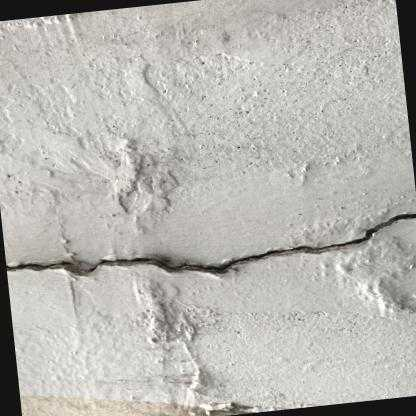crack: (4, 210, 416, 279)
